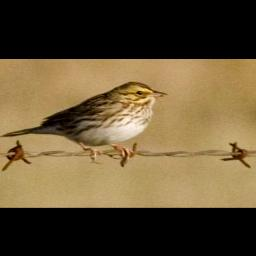Sparrow: (0, 79, 170, 163)
